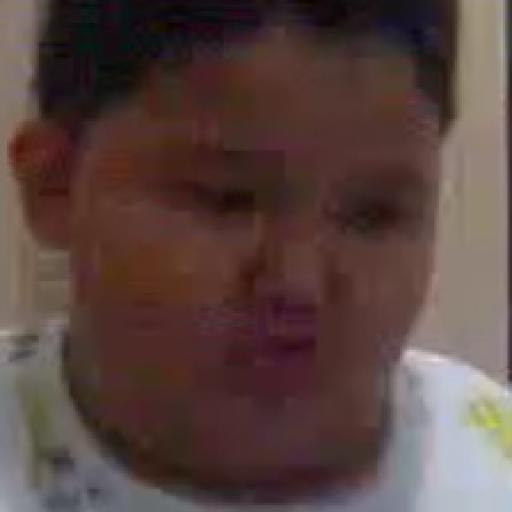Autism: (8, 6, 448, 494)
